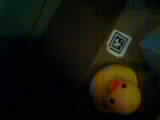duck: (85, 53, 140, 104)
